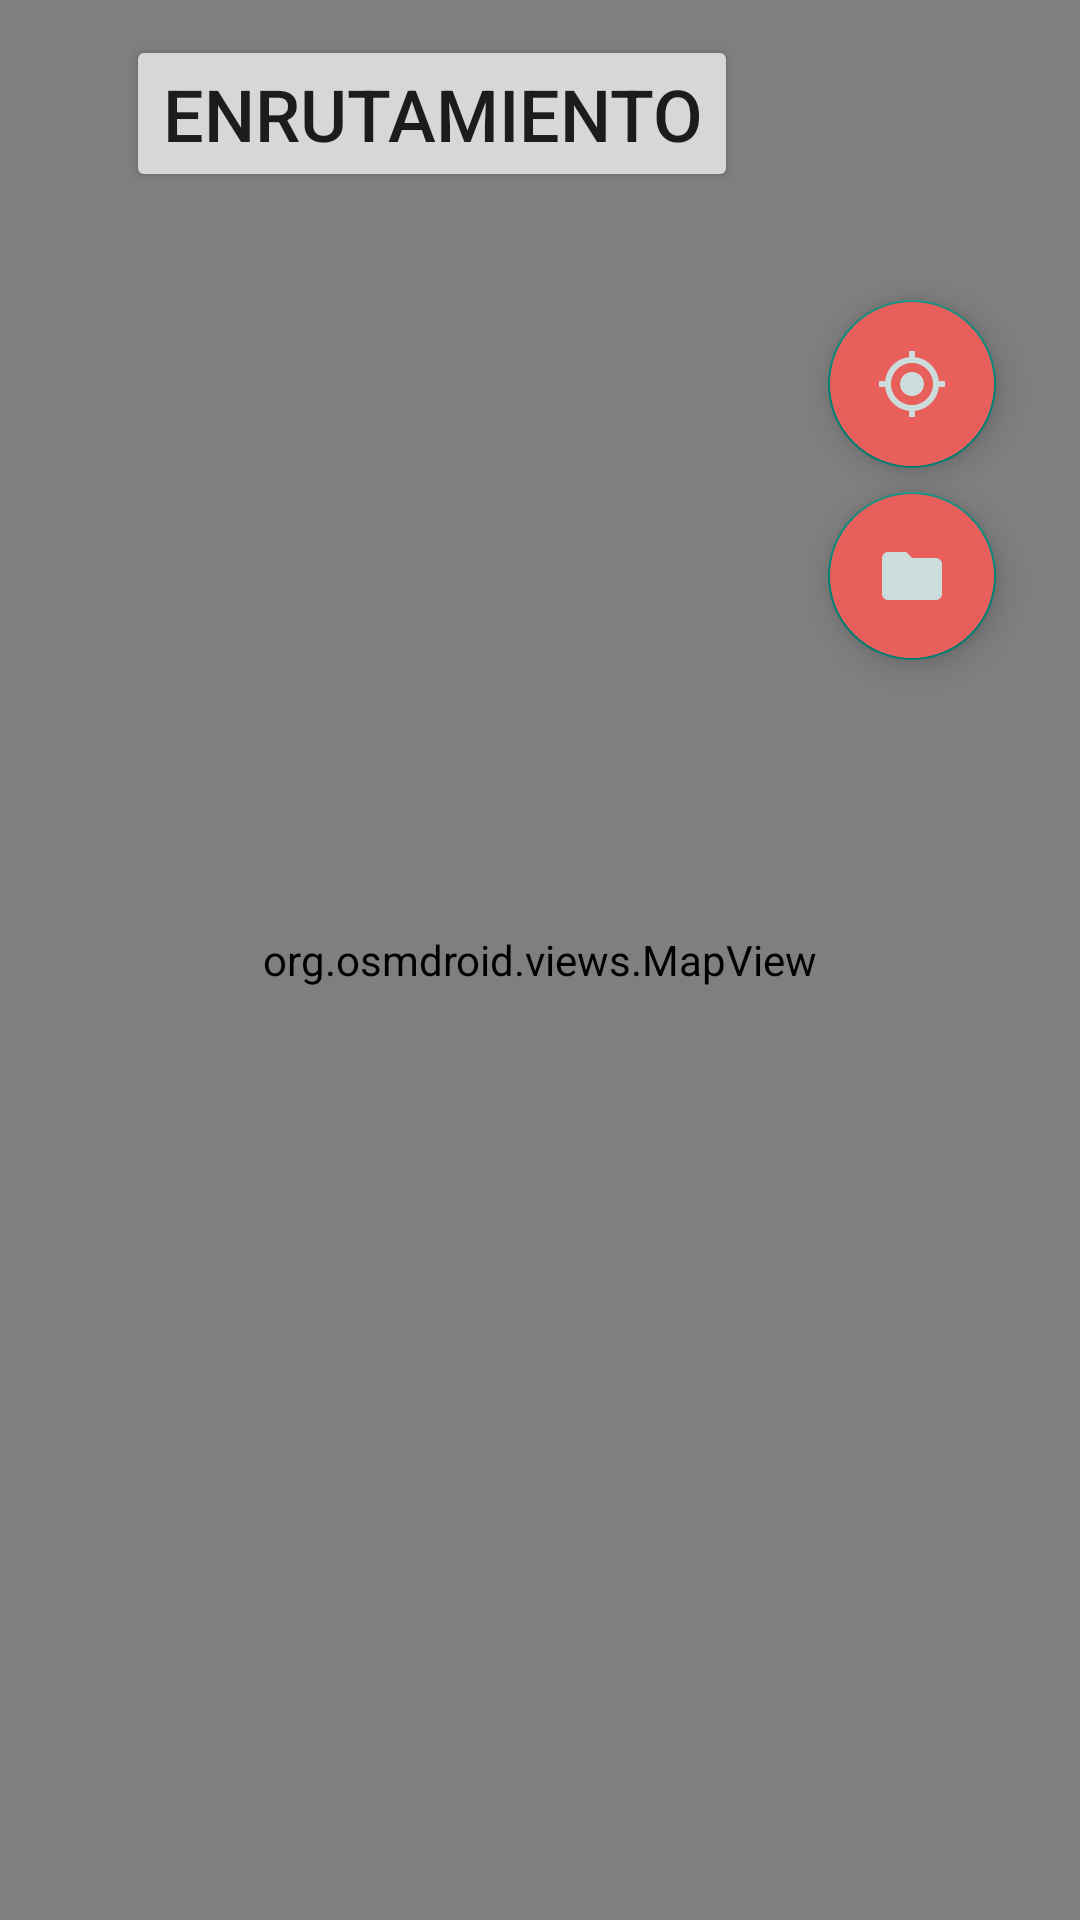

Where to tap for icons on this 1080×1920 app screen, as (x,y):
Base de datos de ubicaciones favoritas: (912,576)
Centrar el Mapa: (912,384)
